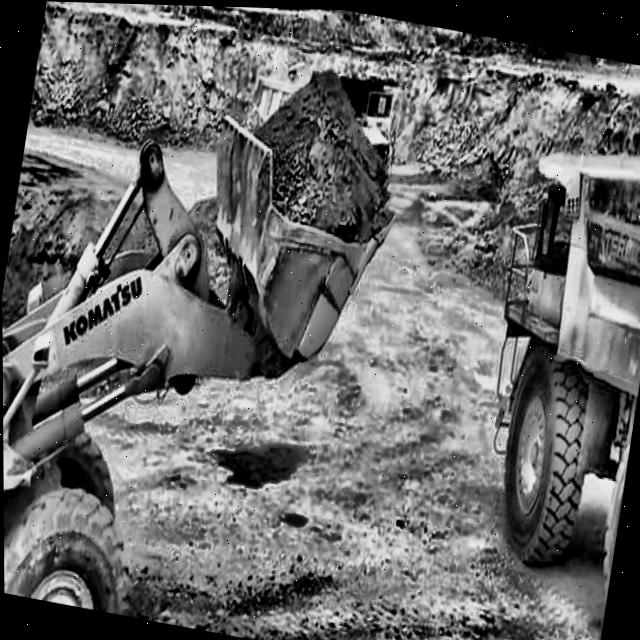buldozerpayloadergrader: (0, 10, 422, 640)
dump_truck: (441, 112, 640, 640)
